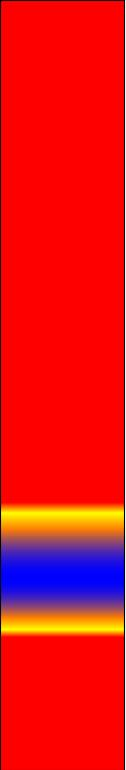Thermal Runaway: (6, 8, 118, 531), (5, 621, 116, 763)
critical: (9, 608, 118, 619)
safe: (5, 546, 121, 600)
